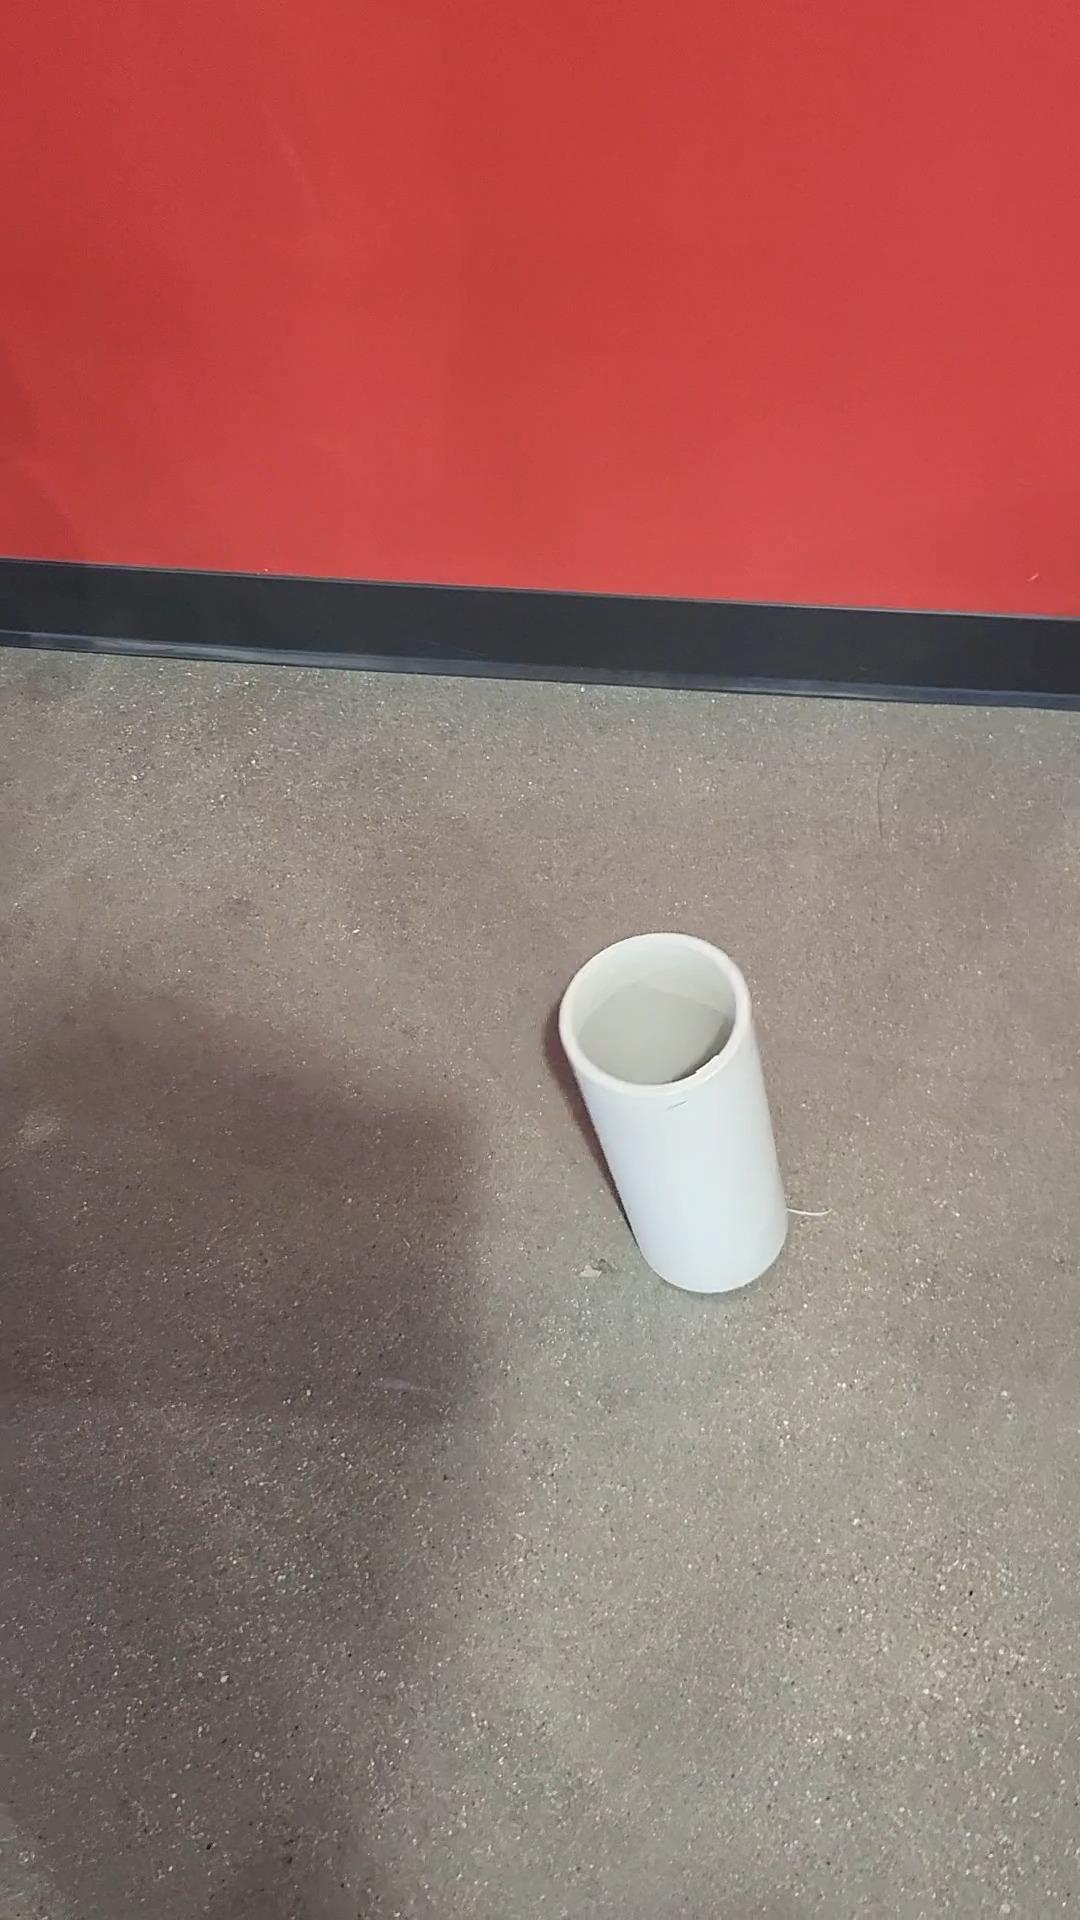coral: (553, 927, 790, 1298)
